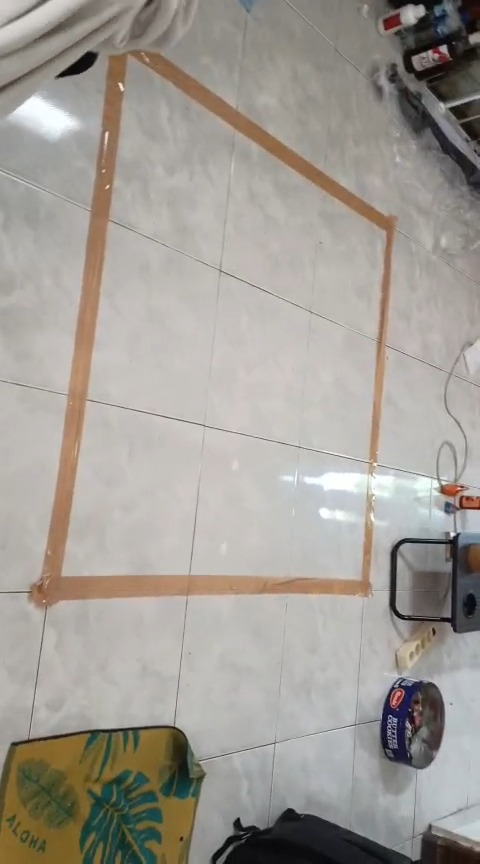floor marking: (31, 52, 394, 606)
